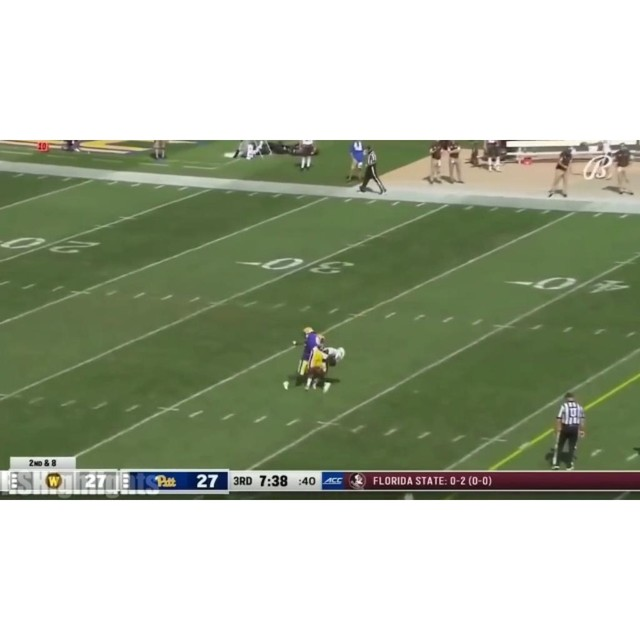american-football-player: (283, 326, 323, 391)
referee: (547, 392, 588, 471), (356, 144, 388, 196)
